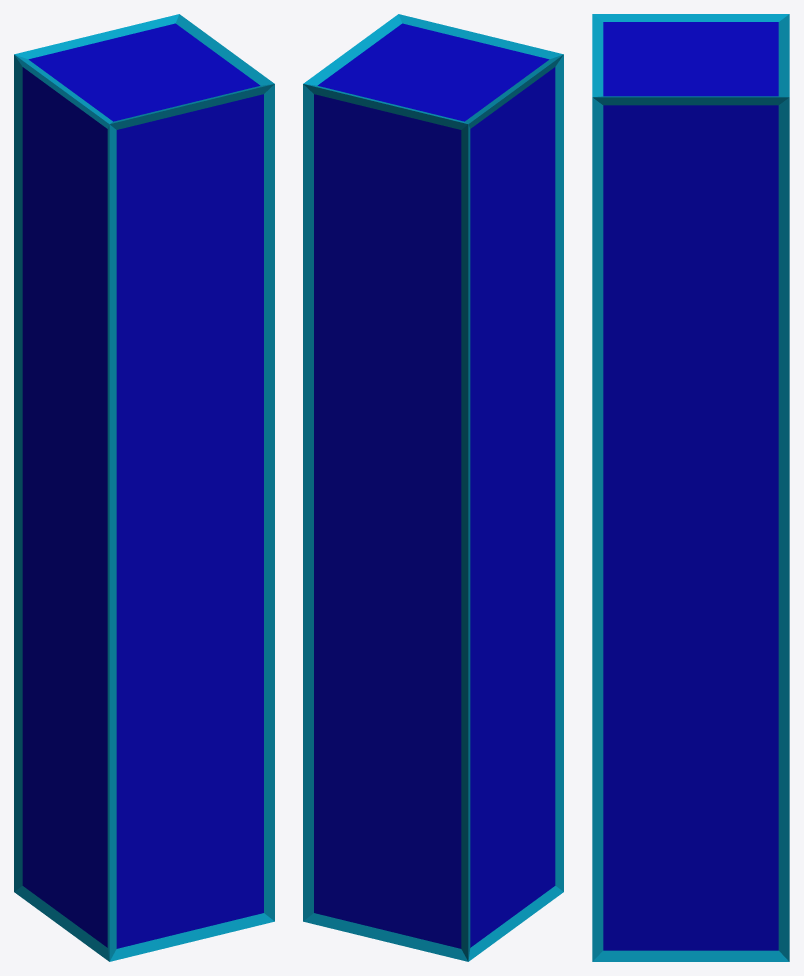
File: verticalRectangle1-5-1Blue.obj
3 views of the same model, side by side, from view 1: azimuth 30°, elevation 25°; view 2: azimuth 150°, elevation 25°; view 3: azimuth 270°, elevation 25° (orthographic). The views are drawn at different scales.
Visible parts, largest first — view 1: Cube.003_Cube.005_Material.001, Cube.003_Cube.005_Material.002; view 2: Cube.003_Cube.005_Material.001, Cube.003_Cube.005_Material.002; view 3: Cube.003_Cube.005_Material.001, Cube.003_Cube.005_Material.002.
Boxes of the visible parts, <box> form: Cube.003_Cube.005_Material.001: <box>22,23,263,948</box>; Cube.003_Cube.005_Material.002: <box>14,14,274,961</box>; Cube.003_Cube.005_Material.001: <box>314,23,555,948</box>; Cube.003_Cube.005_Material.002: <box>303,14,563,961</box>; Cube.003_Cube.005_Material.001: <box>603,22,778,950</box>; Cube.003_Cube.005_Material.002: <box>592,14,789,961</box>.
Bounding box in the file's own units: 1.04 × 5.04 × 1.04.
